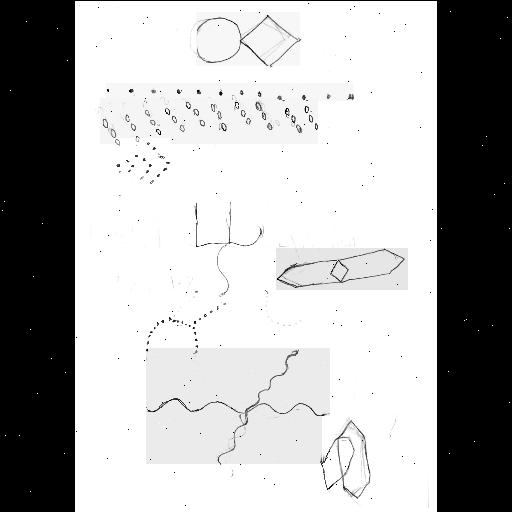shape-1: (196, 12, 300, 66)
shape-2: (106, 83, 354, 101)
shape-3: (100, 98, 318, 144)
shape-4: (114, 138, 170, 184)
shape-5: (196, 200, 262, 294)
shape-6: (144, 298, 228, 354)
shape-7: (146, 348, 330, 464)
shape-8: (322, 416, 372, 498)
shape-9: (276, 248, 408, 290)
